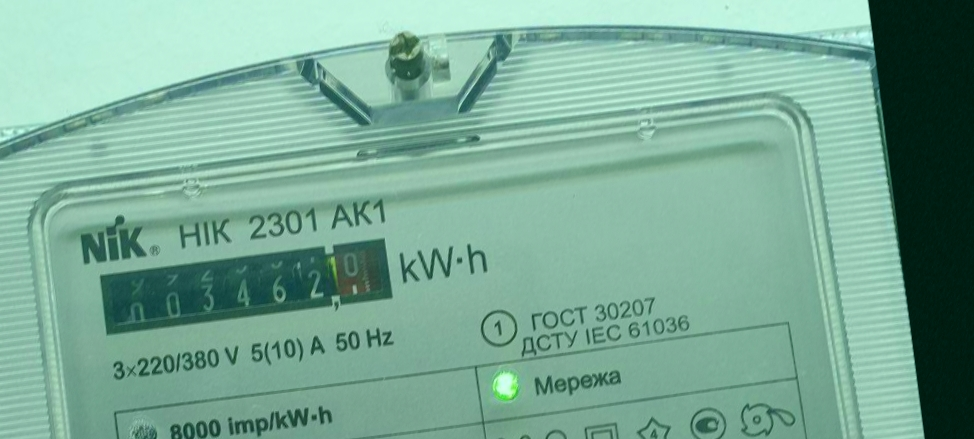0: (162, 287, 184, 318), (341, 249, 361, 279), (125, 298, 147, 323)
2: (304, 266, 326, 300)
3: (196, 281, 218, 315)
4: (233, 275, 254, 309)
6: (267, 270, 291, 306)
9: (125, 275, 148, 297)
screen: (85, 224, 406, 354)
